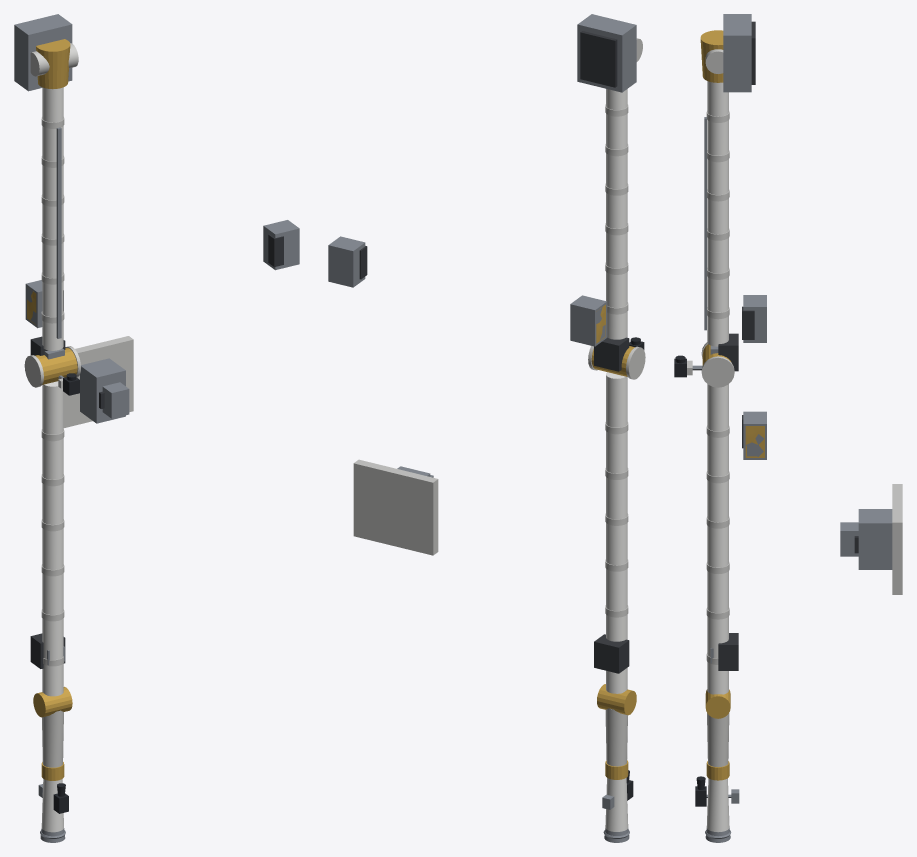
Rendered from shuttle-rms.glb.
3 renders of one model, left to right at view 1: azimuth 30°, elevation 25°; view 2: azimuth 150°, elevation 25°; view 3: azimuth 270°, elevation 25°, orthographic.
Visible parts, largest first — view 1: body (×4), foil (×2); view 2: body (×4), foil; view 3: body (×4), foil (×2).
Part boxes in pixels (x1,y1,x2,y2): body (×4): (14,14,299,842); foil (×2): (33,39,77,717); body (×4): (328,14,645,842); foil: (597,684,636,715); body (×4): (674,14,902,842); foil (×2): (700,30,730,718).
Bounding box in the file's own units: 5.76 × 15.75 × 4.01.
